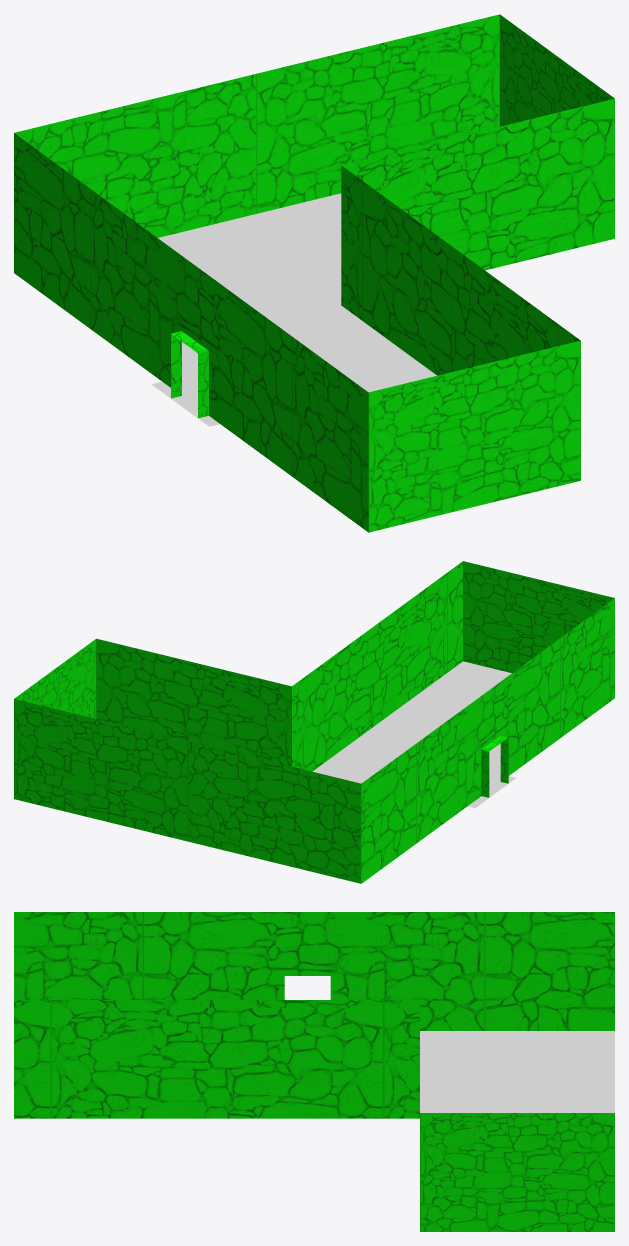
The model's file is 2층 드레스룸.fbx.
3 views of the same model, one above another, from view 1: azimuth 30°, elevation 25°; view 2: azimuth 150°, elevation 25°; view 3: azimuth 270°, elevation 25° (orthographic). The views are drawn at different scales.
Visible parts, largest first — view 1: 드레스룸 벽, 드레스 룸 바닥; view 2: 드레스룸 벽, 드레스 룸 바닥; view 3: 드레스룸 벽, 드레스 룸 바닥.
Part boxes in pixels (x1,y1,x2,y2): 드레스룸 벽: [14, 14, 614, 532]; 드레스 룸 바닥: [152, 193, 436, 426]; 드레스룸 벽: [14, 561, 614, 883]; 드레스 룸 바닥: [313, 661, 516, 807]; 드레스룸 벽: [14, 912, 614, 1231]; 드레스 룸 바닥: [420, 1031, 614, 1112].
Size of the model in its own units: 717 by 193 by 886.
